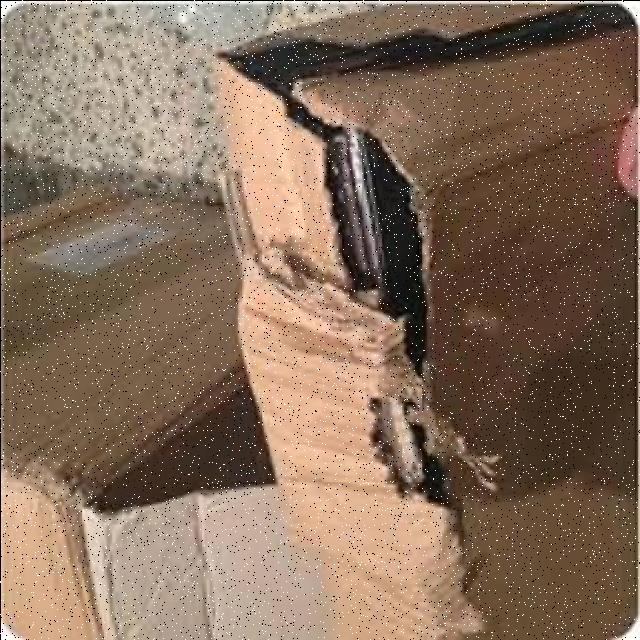defect: (206, 1, 632, 638)
